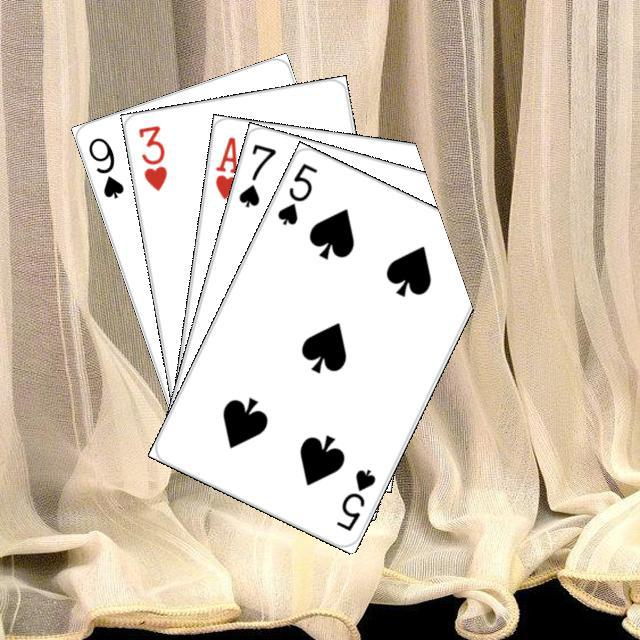3h: (133, 120, 169, 193)
5s: (272, 158, 319, 227), (331, 464, 378, 533)
7s: (233, 139, 278, 210)
9s: (83, 132, 126, 200)
Ah: (210, 131, 241, 201)
